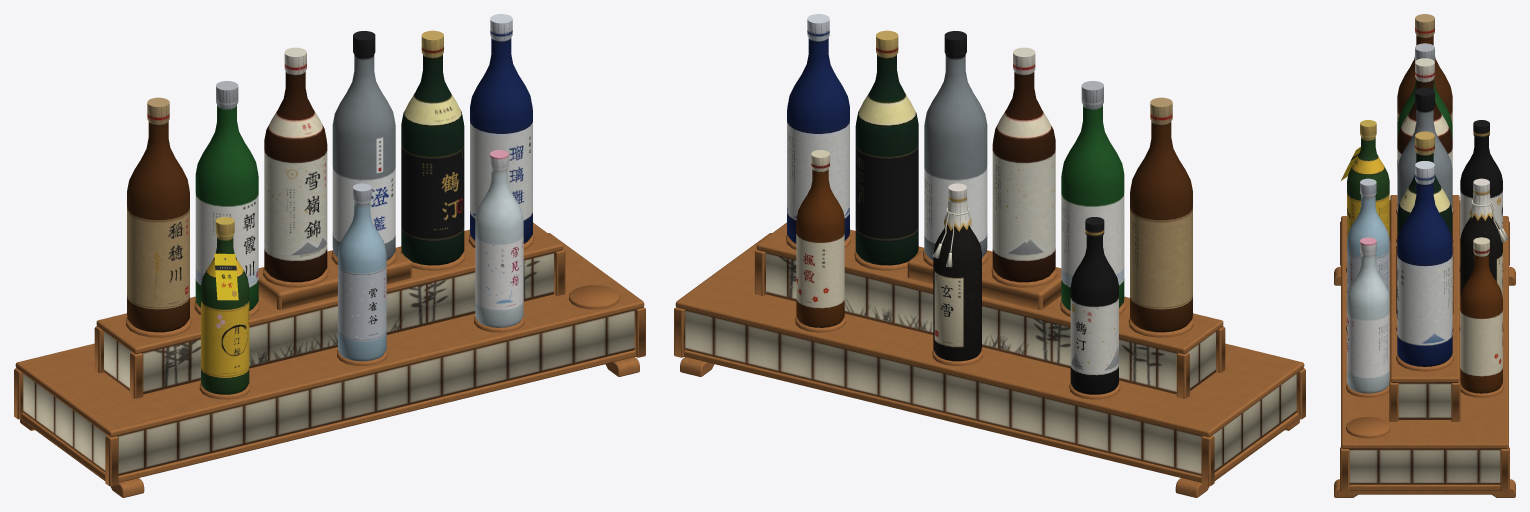
The model's file is sakestand.glb.
The picture shows the model from 3 angles, left to right: view 1: azimuth 30°, elevation 25°; view 2: azimuth 150°, elevation 25°; view 3: azimuth 270°, elevation 25°; orthographic projection. The views are drawn at different scales.
Visible parts, largest first — view 1: SakeWoodKeyaki, SakeShoji, SakeBottle0, SakeBottle2, SakeBottle8, SakeBottle9, SakeBottle1, SakeBottle5, SakeBottle3, SakeBottle6, SakeBottle11; view 2: SakeWoodKeyaki, SakeShoji, SakeBottle0, SakeBottle2, SakeBottle8, SakeBottle9, SakeBottle1, SakeBottle5, SakeBottle4, SakeBottle7, SakeBottle10; view 3: SakeWoodKeyaki, SakeBottle5, SakeShoji, SakeBottle7, SakeBottle11, SakeBottle3, SakeBottle10, SakeBottle6, SakeBottle9, SakeBottle4, SakeBottle0, SakeBottle2 (+3 smaller).
Part boxes in pixels (left/top/right/bottom): SakeWoodKeyaki: left=14, top=222, right=645, bottom=497; SakeShoji: left=23, top=252, right=634, bottom=475; SakeBottle0: left=264, top=47, right=327, bottom=282; SakeBottle2: left=401, top=30, right=464, bottom=265; SakeBottle8: left=127, top=97, right=189, bottom=332; SakeBottle9: left=332, top=31, right=395, bottom=260; SakeBottle1: left=195, top=81, right=258, bottom=310; SakeBottle5: left=470, top=14, right=532, bottom=243; SakeBottle3: left=201, top=217, right=249, bottom=394; SakeBottle6: left=338, top=183, right=386, bottom=361; SakeBottle11: left=475, top=150, right=523, bottom=327; SakeWoodKeyaki: left=674, top=222, right=1305, bottom=497; SakeShoji: left=685, top=252, right=1296, bottom=475; SakeBottle0: left=992, top=47, right=1055, bottom=282; SakeBottle2: left=855, top=30, right=918, bottom=265; SakeBottle8: left=1130, top=97, right=1192, bottom=332; SakeBottle9: left=924, top=31, right=987, bottom=260; SakeBottle1: left=1061, top=81, right=1124, bottom=310; SakeBottle5: left=787, top=14, right=849, bottom=243; SakeBottle4: left=1070, top=217, right=1118, bottom=394; SakeBottle7: left=796, top=150, right=844, bottom=327; SakeBottle10: left=933, top=183, right=981, bottom=361; SakeWoodKeyaki: left=1334, top=195, right=1515, bottom=497; SakeBottle5: left=1397, top=161, right=1452, bottom=366; SakeShoji: left=1349, top=383, right=1500, bottom=484; SakeBottle7: left=1460, top=237, right=1502, bottom=393; SakeBottle11: left=1347, top=237, right=1389, bottom=393; SakeBottle3: left=1341, top=120, right=1389, bottom=238; SakeBottle10: left=1460, top=178, right=1502, bottom=297; SakeBottle6: left=1347, top=178, right=1389, bottom=297; SakeBottle9: left=1397, top=87, right=1452, bottom=212; SakeBottle4: left=1460, top=120, right=1502, bottom=238; SakeBottle0: left=1397, top=58, right=1452, bottom=168; SakeBottle2: left=1397, top=131, right=1452, bottom=241.
Bounding box in the file's own units: 1.02 × 0.6413 × 0.34.
Materials: 6 (4 with a texture image).
